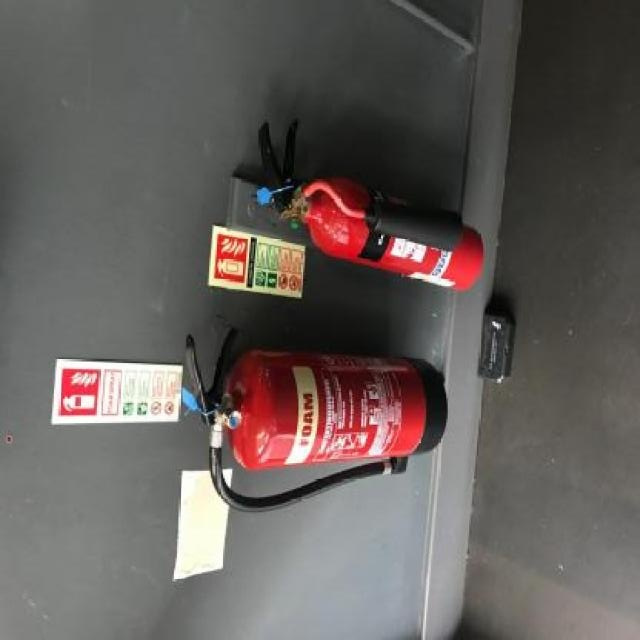fire extinguisher: (185, 326, 451, 511), (258, 119, 484, 290)
